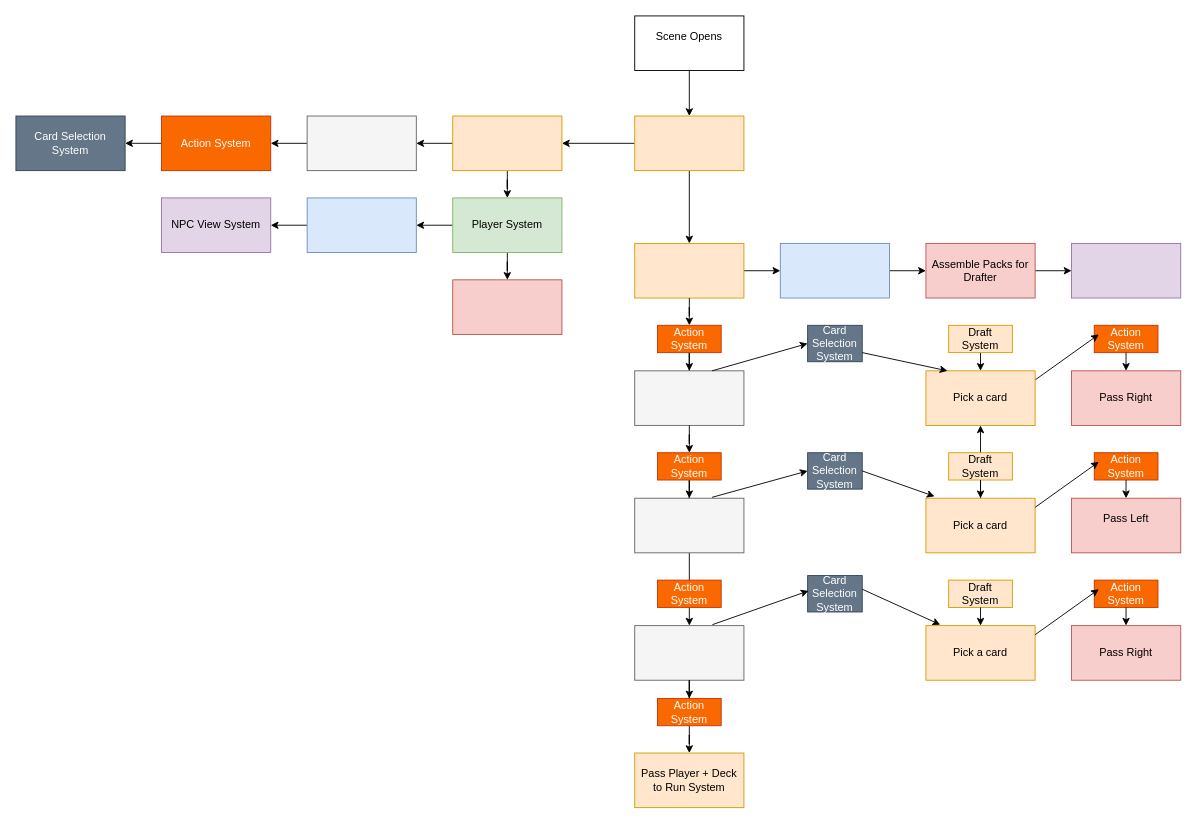
This 1197x824 diagram has some shape labels left out. The shapes that lost their labels are listed below. From the top down, each one's centre as x and y in pixels, then its label:
At (361,143): "Pile View System".
At (507,143): "DraftSystem".
At (689,143): "pass player + player class to Draft Setup".
At (361,225): "NPC Drafter System".
At (689,270): "Create Draft Table".
At (834,270): "Build Drafters".
At (1126,270): "Create Drafter view at table".
At (507,306): "Packs System".
At (689,397): "Load Pack 1".
At (689,525): "Load Pack 2".
At (689,652): "Load Pack 3".
